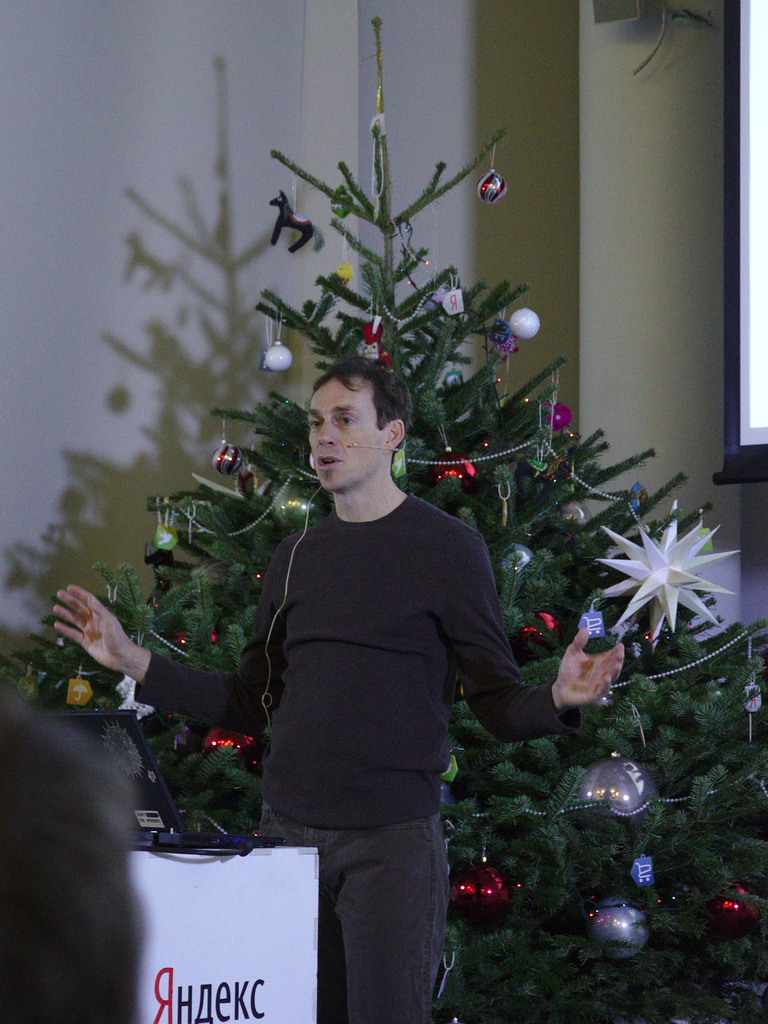Human_hand: (43, 585, 155, 696), (552, 624, 627, 717)
